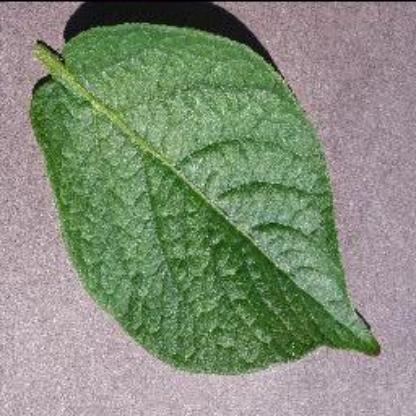Healthy-plant: (16, 16, 390, 382)
